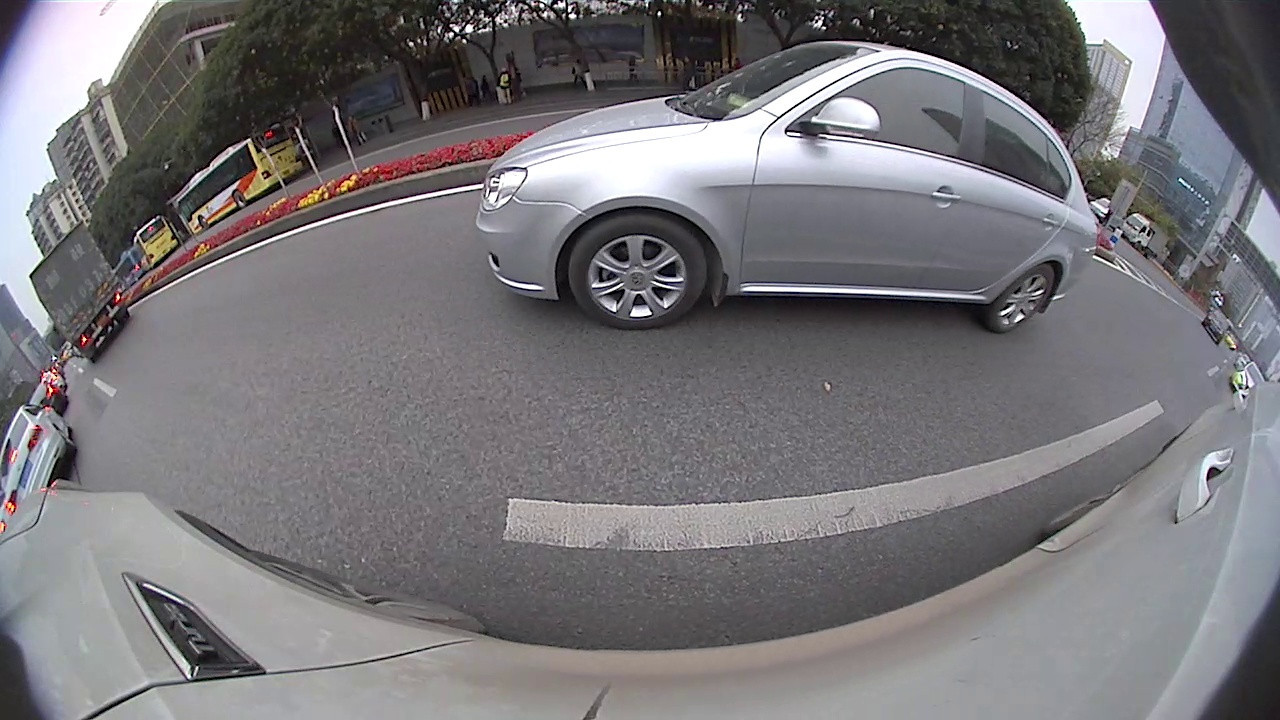bus: (173, 120, 309, 239), (132, 213, 181, 276)
car: (472, 39, 1106, 337), (3, 401, 78, 519), (1230, 359, 1268, 399), (28, 382, 70, 418), (1203, 307, 1232, 343)
front: (564, 209, 714, 332)
rear: (982, 259, 1058, 335), (54, 426, 78, 453), (230, 190, 249, 211)
truck: (27, 218, 132, 364), (1119, 211, 1172, 262)
